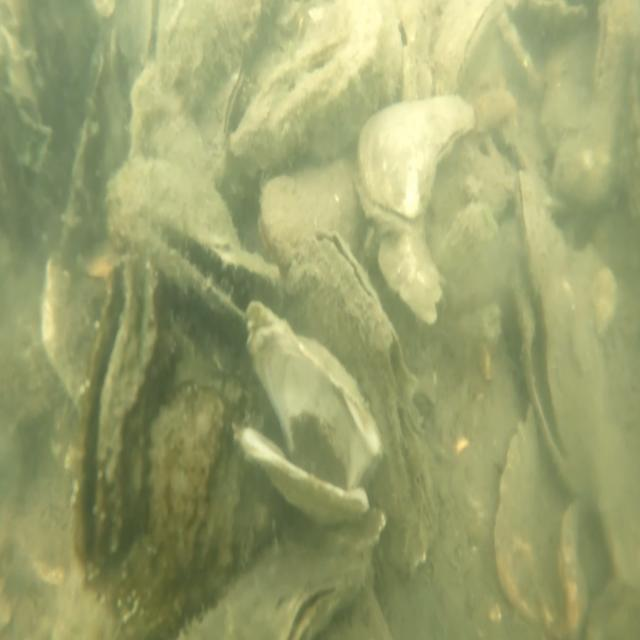Oyster-Closed: (284, 228, 438, 579), (232, 5, 378, 163), (353, 90, 474, 235), (258, 155, 358, 270), (432, 0, 507, 92), (218, 64, 244, 137)
Oyster-Indeterminate: (492, 403, 574, 625), (148, 380, 225, 585), (376, 221, 444, 322)
Oyster-Open: (231, 302, 383, 522), (67, 254, 162, 590), (104, 156, 283, 331), (506, 171, 600, 500), (274, 567, 353, 640)
